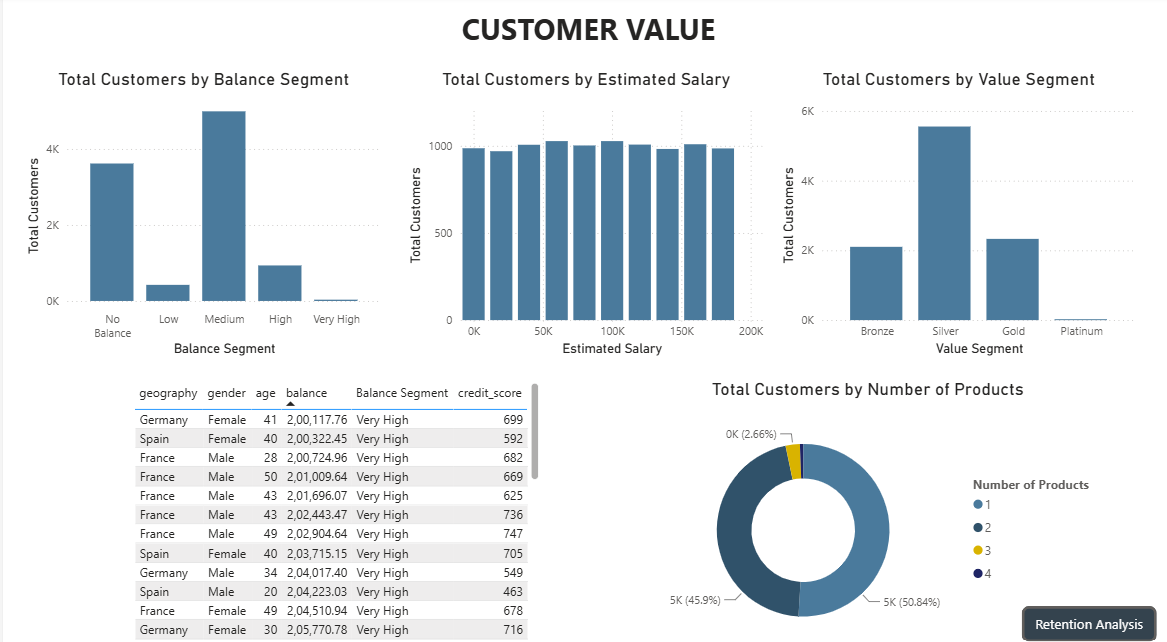

What the dashboard file says about the page in this screenshot:
{"tool":"powerbi","page":{"name":"Customer Value","canvas":[1280,720],"ordinal":1},"visuals":[{"type":"clusteredColumnChart","fields":{"Category":["customers.Balance Segment"],"Y":["_Measures.Total Customers"]},"box":[20,80,400,320],"z":0},{"type":"textbox","box":[419.7,9.9,446,70],"z":1000},{"type":"clusteredColumnChart","title":"Total Customers by Estimated Salary","fields":{"Y":["_Measures.Total Customers"],"Category":["customers.estimated_salary (bins)"]},"box":[440,80,400,320],"z":2000},{"type":"tableEx","fields":{"Values":["customers.geography","customers.gender","customers.age","customers.balance","customers.Balance Segment","customers.credit_score"]},"box":[138.6,419.9,454.9,300],"z":3000},{"type":"clusteredColumnChart","fields":{"Category":["customers.Value Segment"],"Y":["_Measures.Total Customers"]},"box":[850,80,400,320],"z":4000},{"type":"donutChart","title":"Total Customers by Number of Products","fields":{"Category":["customers.num_products"],"Y":["_Measures.Total Customers"]},"box":[687.5,419.9,524.2,300.5],"z":5000},{"type":"actionButton","box":[1118.4,669.6,148.2,39.8],"z":6000}]}

Visuals, with their boxes in screenshot pixels (x1, y1, x2, y2), scaled from the page's 1280x720 canvas onto the 1167x642 screenshot:
clusteredColumnChart - customers.Balance Segment x _Measures.Total Customers: 18:71:383:357
textbox: 383:9:789:71
"Total Customers by Estimated Salary" clusteredColumnChart: 401:71:766:357
tableEx - customers.geography x customers.gender: 126:374:541:641
clusteredColumnChart - customers.Value Segment x _Measures.Total Customers: 775:71:1140:357
"Total Customers by Number of Products" donutChart: 627:374:1105:641
actionButton: 1020:597:1155:633
